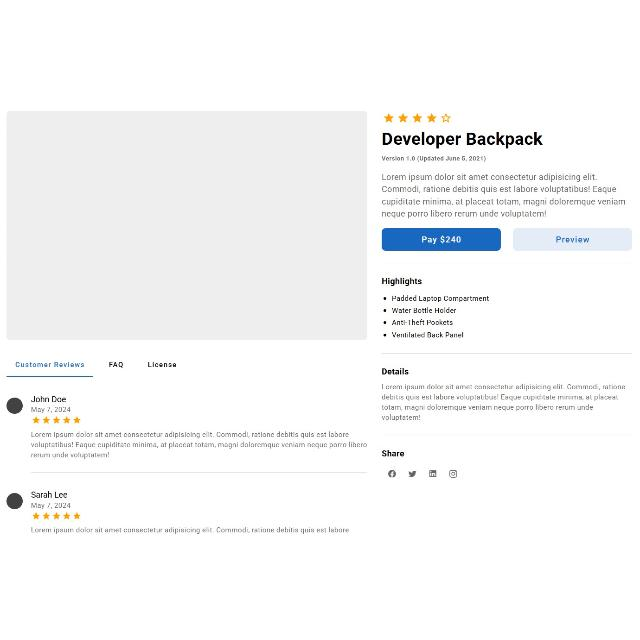QLabel: (380, 173, 626, 217), (29, 431, 367, 459), (379, 382, 626, 420), (381, 130, 543, 148), (31, 526, 349, 534), (382, 294, 491, 302), (382, 154, 486, 162), (14, 360, 86, 370), (382, 306, 458, 314), (382, 318, 453, 326), (384, 332, 464, 338), (381, 276, 423, 286), (30, 394, 68, 404), (30, 405, 72, 413), (421, 235, 462, 243), (146, 360, 178, 370), (31, 490, 68, 498), (556, 234, 588, 243), (30, 502, 72, 508), (107, 359, 125, 369), (381, 368, 409, 374), (382, 449, 404, 456)
VAvatar: (6, 396, 22, 414), (7, 492, 23, 510)
VBtn: (512, 227, 632, 251), (381, 228, 501, 250)
VCard: (5, 108, 369, 342)
VDivider: (30, 471, 368, 474), (382, 433, 632, 435), (382, 352, 632, 354), (382, 261, 632, 263)
VIcon: (408, 470, 417, 478), (388, 469, 396, 477), (429, 469, 437, 477), (449, 469, 457, 477)
VRating: (384, 112, 451, 124), (31, 416, 81, 424), (31, 512, 80, 520)
VTabs: (3, 356, 369, 536)
